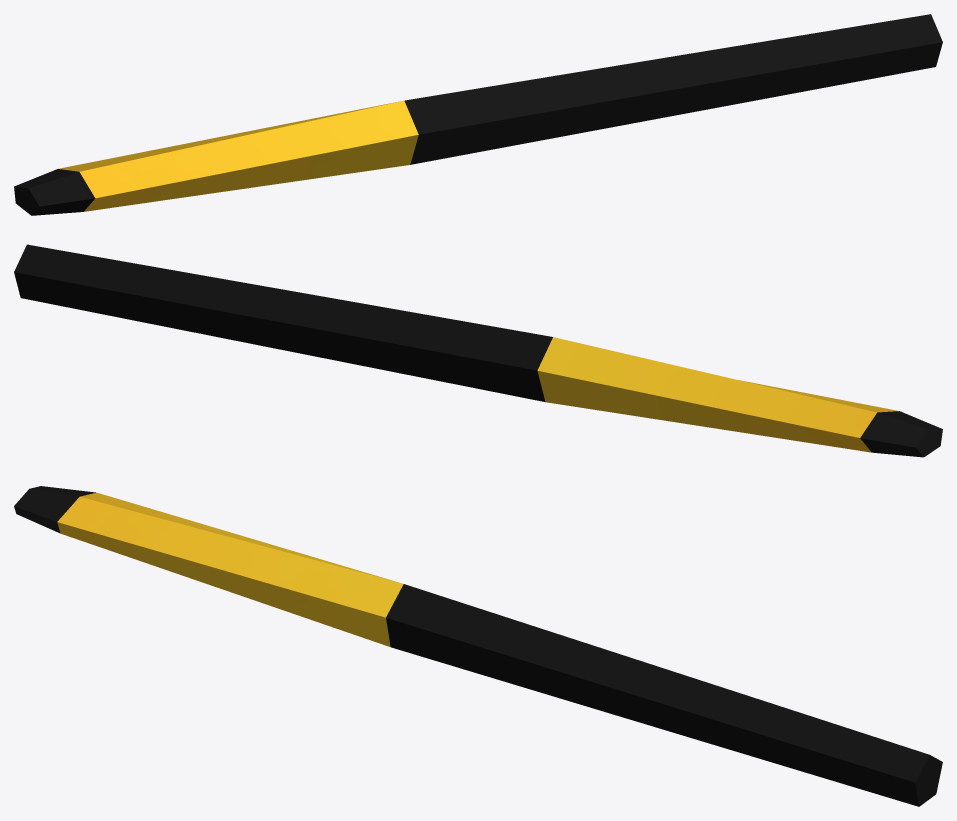
The model's file is pennello4.fbx.
The picture shows the model from 3 angles, top to bottom: view 1: azimuth 30°, elevation 25°; view 2: azimuth 150°, elevation 25°; view 3: azimuth 330°, elevation 25°; orthographic projection.
Visible parts, largest first — view 1: pennello4; view 2: pennello4; view 3: pennello4.
Part boxes in pixels (x1,y1,x2,y2): pennello4: [14, 14, 942, 215]; pennello4: [14, 244, 942, 457]; pennello4: [14, 486, 942, 806].
Bounding box in the file's own units: 0.1391 × 0.0134 × 0.0103.
